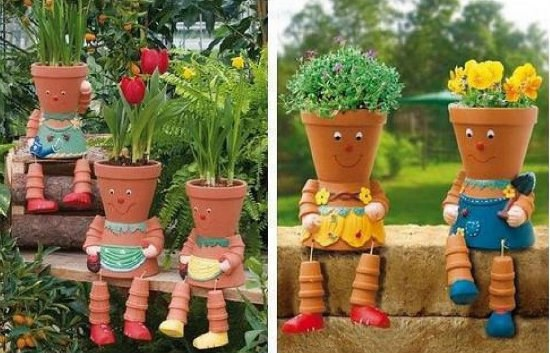flowerpot: (448, 104, 539, 181), (299, 107, 388, 181), (94, 158, 162, 222), (184, 178, 247, 236), (31, 64, 87, 114)
